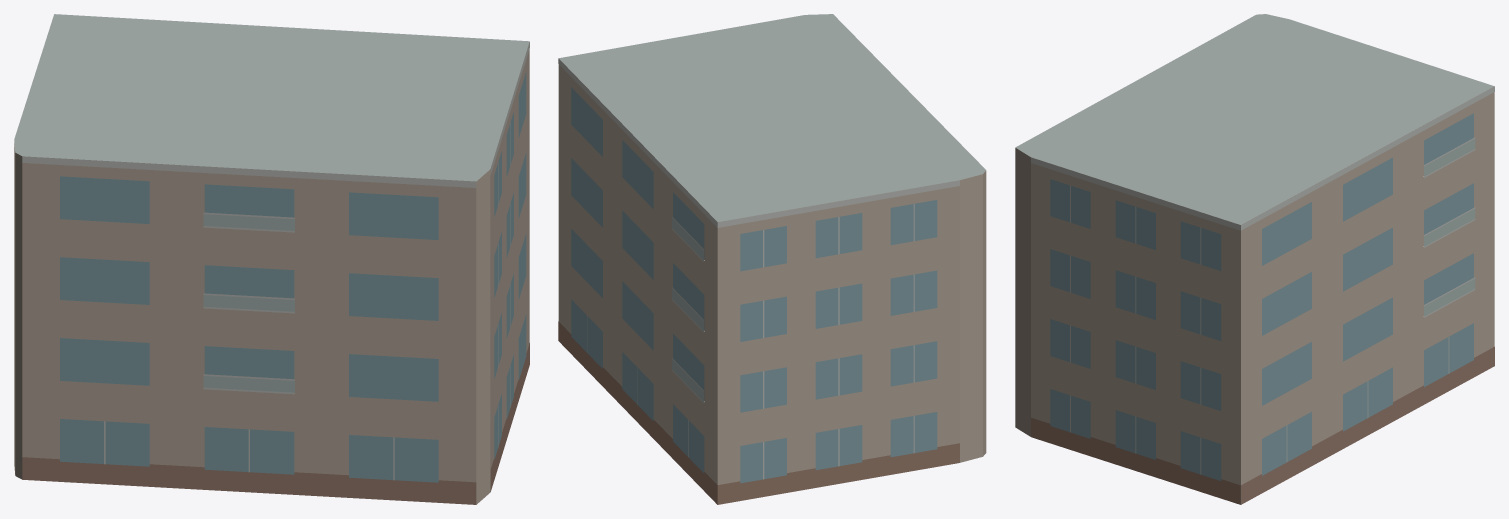
File: survey-upis-32494506.glb
The picture shows the model from 3 angles, left to right: view 1: azimuth 30°, elevation 25°; view 2: azimuth 150°, elevation 25°; view 3: azimuth 270°, elevation 25°; orthographic projection. The views are drawn at different scales.
Visible parts, largest first — view 1: survey-upis-32494506.tmp; view 2: survey-upis-32494506.tmp; view 3: survey-upis-32494506.tmp.
Part boxes in pixels (x1=…): survey-upis-32494506.tmp: x1=14, y1=14, x2=529, y2=504; survey-upis-32494506.tmp: x1=558, y1=14, x2=986, y2=504; survey-upis-32494506.tmp: x1=1015, y1=14, x2=1494, y2=504.
Size of the model in its own units: 19.58 by 12.1 by 18.81.
